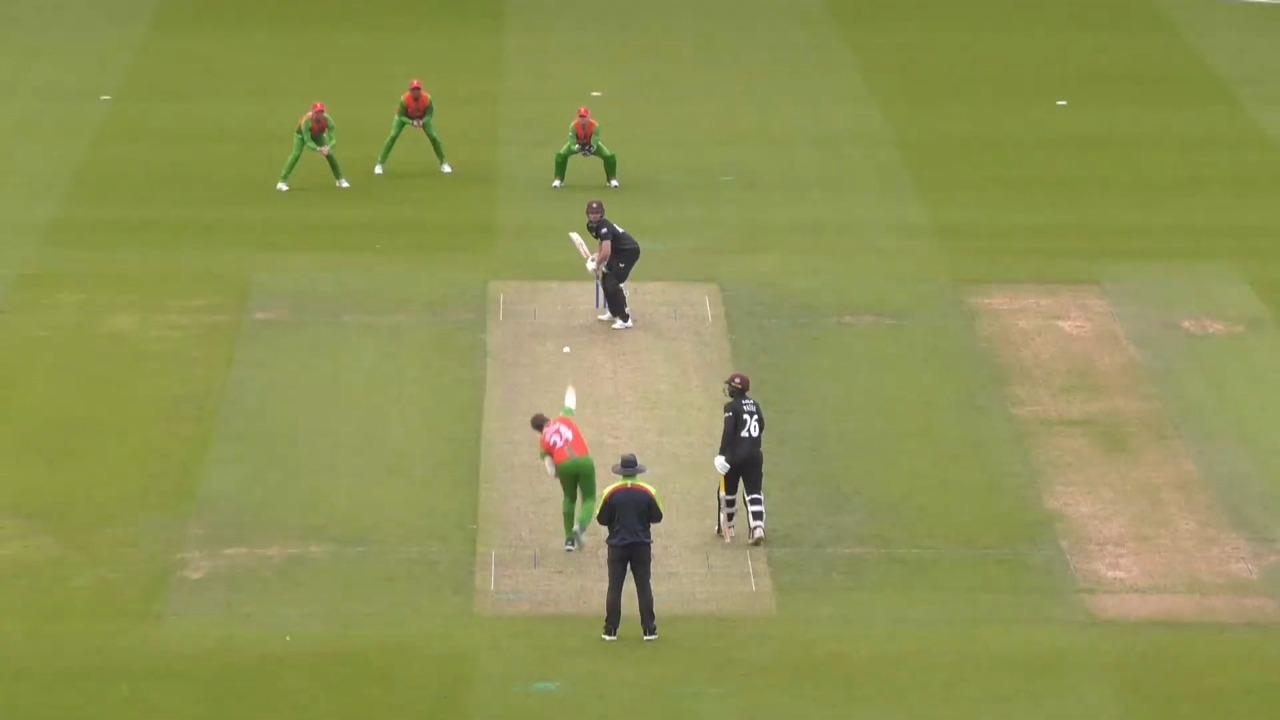sports ball: (563, 347, 570, 352)
